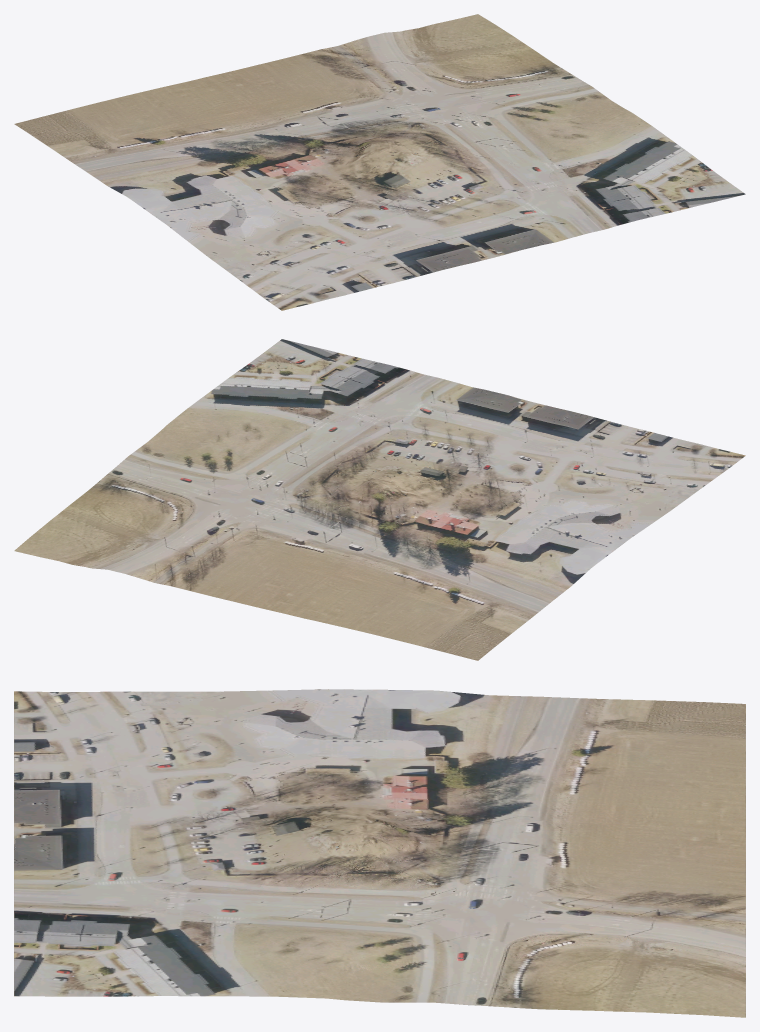
The model's file is CM_Terrain_24490663_6818770.fbx.
3 renders of one model, top to bottom at view 1: azimuth 30°, elevation 25°; view 2: azimuth 150°, elevation 25°; view 3: azimuth 270°, elevation 25°, orthographic. The views are drawn at different scales.
Parts seen in each view (by area): view 1: CM_Terrain_24490663_6818770_LOD0; view 2: CM_Terrain_24490663_6818770_LOD0; view 3: CM_Terrain_24490663_6818770_LOD0.
Part boxes in pixels (x1=…): CM_Terrain_24490663_6818770_LOD0: x1=14, y1=14, x2=745, y2=310; CM_Terrain_24490663_6818770_LOD0: x1=14, y1=339, x2=745, y2=660; CM_Terrain_24490663_6818770_LOD0: x1=14, y1=689, x2=745, y2=1017.
Size of what is drawn, in the model's own units: 205 by 10.63 by 205.
